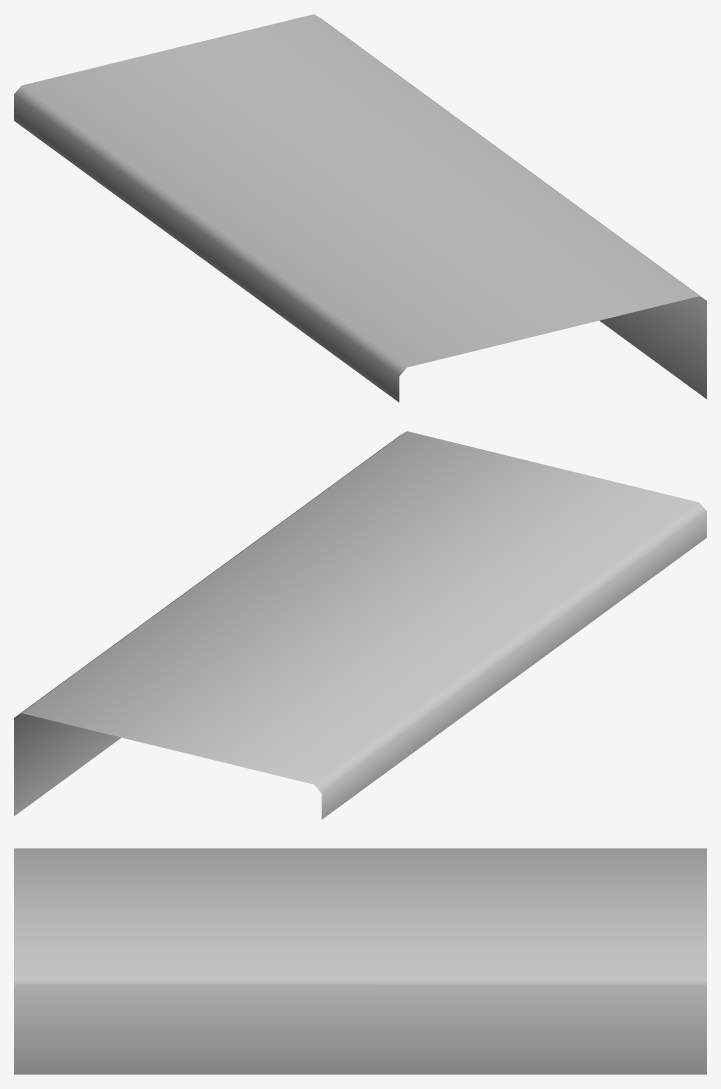
File: Curb.FBX
3 renders of one model, top to bottom at view 1: azimuth 30°, elevation 25°; view 2: azimuth 150°, elevation 25°; view 3: azimuth 270°, elevation 25°, orthographic. The views are drawn at different scales.
Parts seen in each view (by area): view 1: Curb; view 2: Curb; view 3: Curb.
Boxes of the visible parts, <box> form: Curb: <box>14,14,706,402</box>; Curb: <box>14,431,706,819</box>; Curb: <box>14,848,706,1074</box>.
Bounding box in the file's own units: 32.27 × 10.53 × 70.
Materials: 1 (1 with a texture image).
